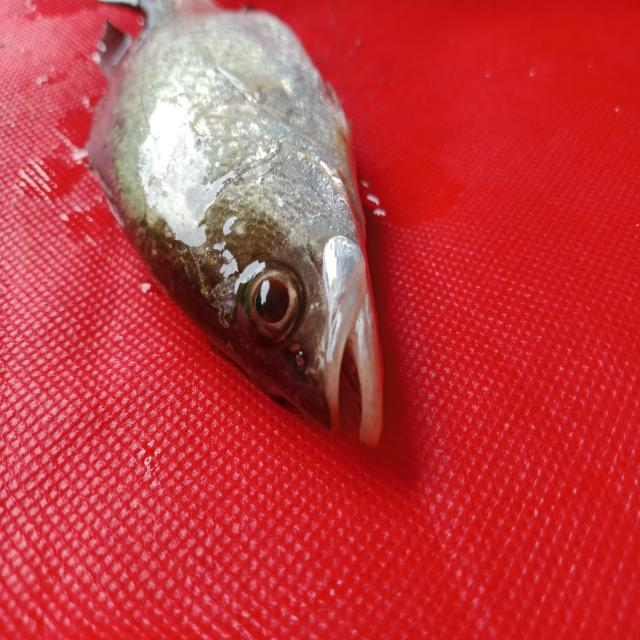ikan: (65, 5, 440, 463)
